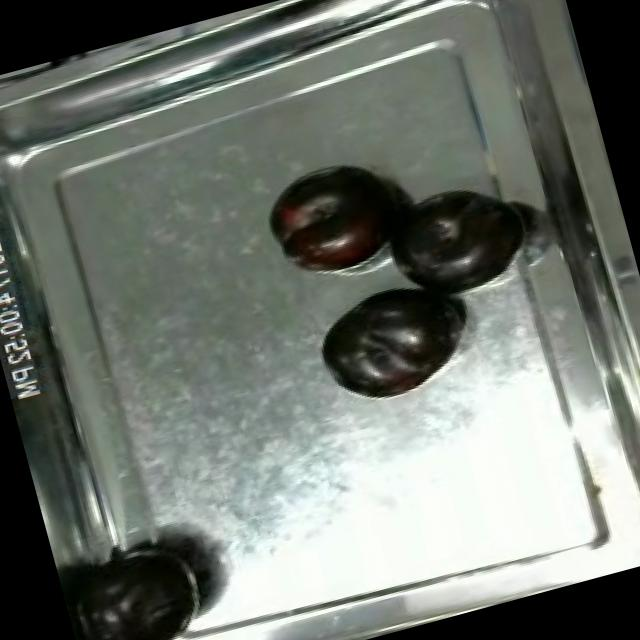Fruit: (301, 268, 478, 412), (372, 171, 542, 315), (250, 148, 412, 288), (52, 523, 221, 640)
